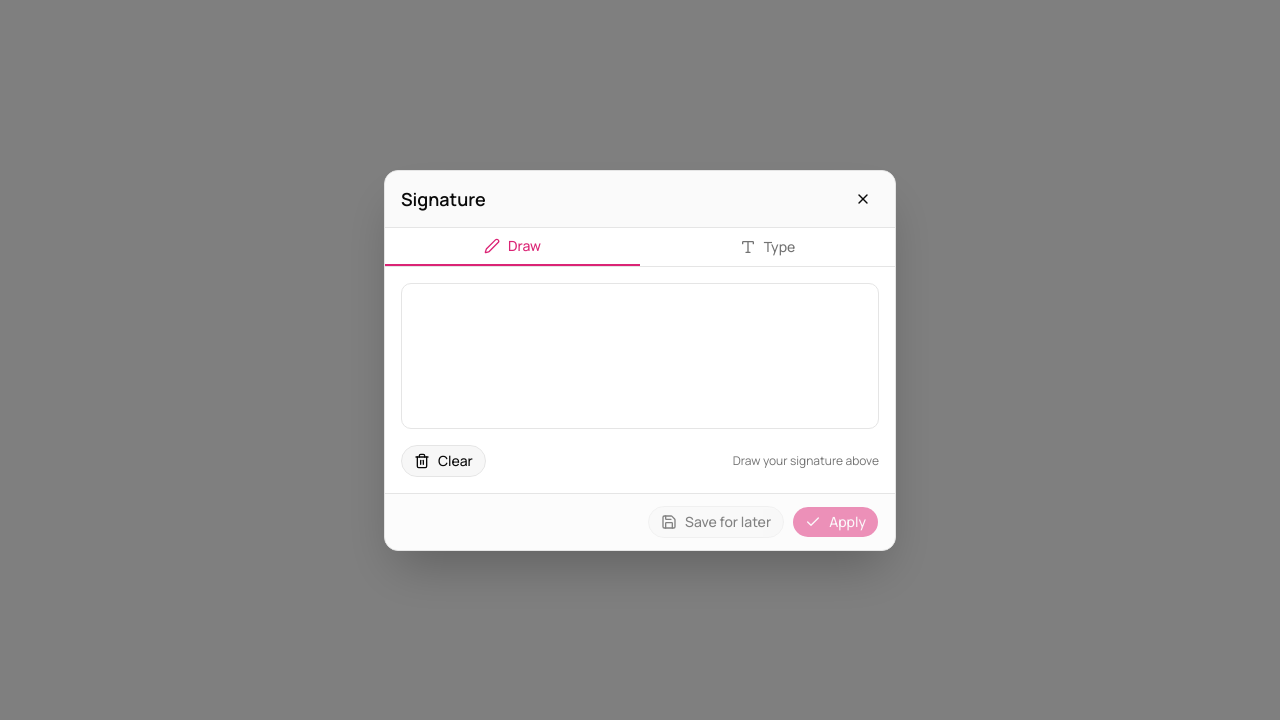
SignaturePad › should enable Apply when text is typed
Click the button "Type". click: point(768, 246)
box: [640,228,895,266]
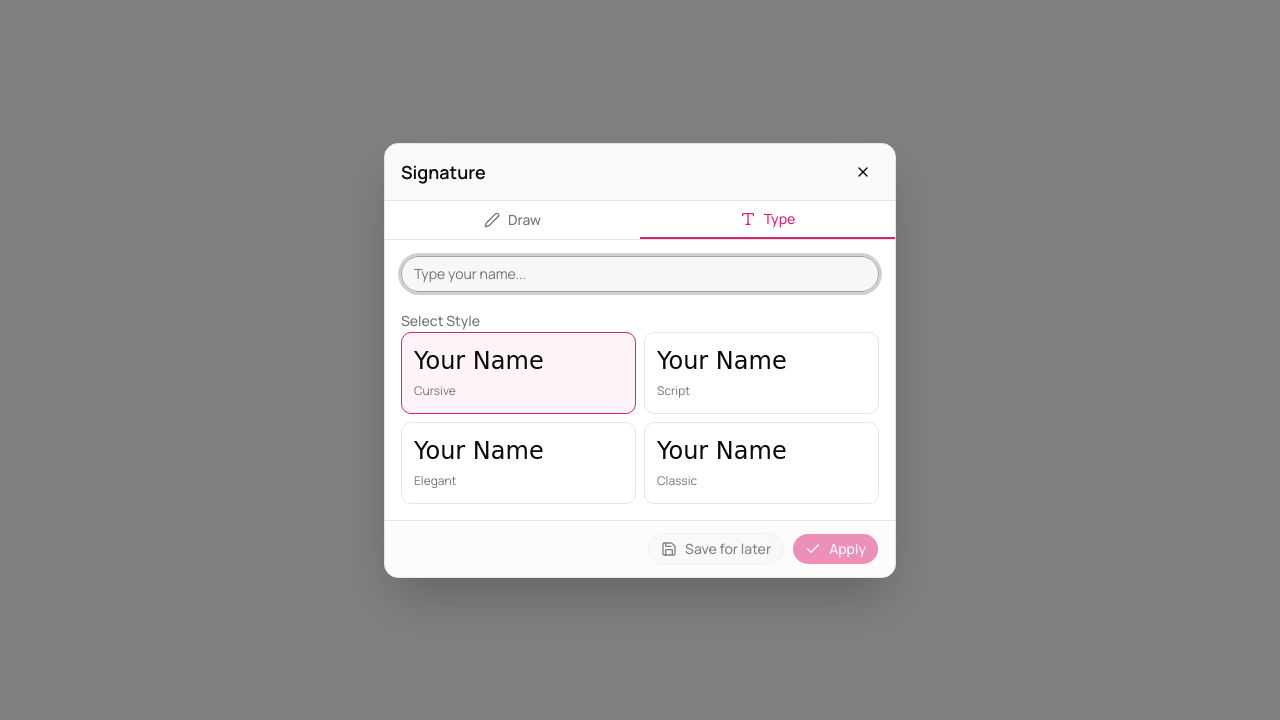
Type "John Doe" into the field with placeholder "Type your name...". click: point(640, 274)
box: [401,256,879,292]
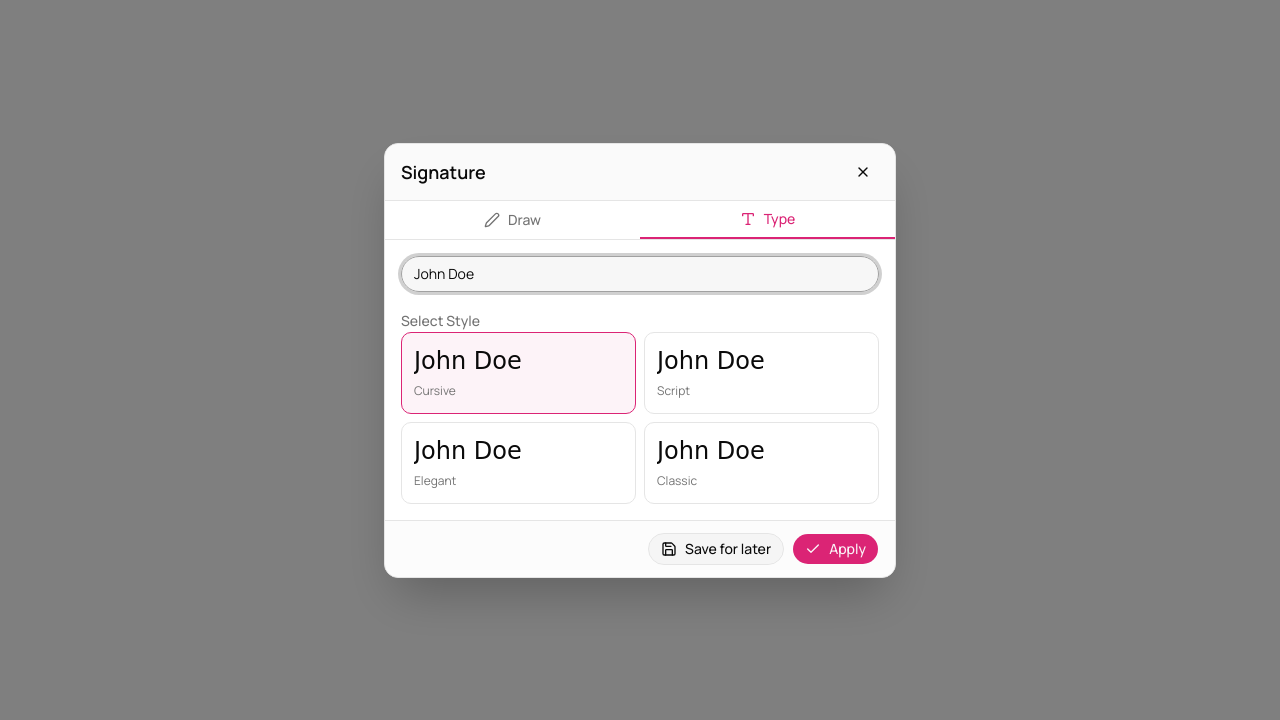
Expected: the button "Apply" is enabled, [792,532,879,564]
